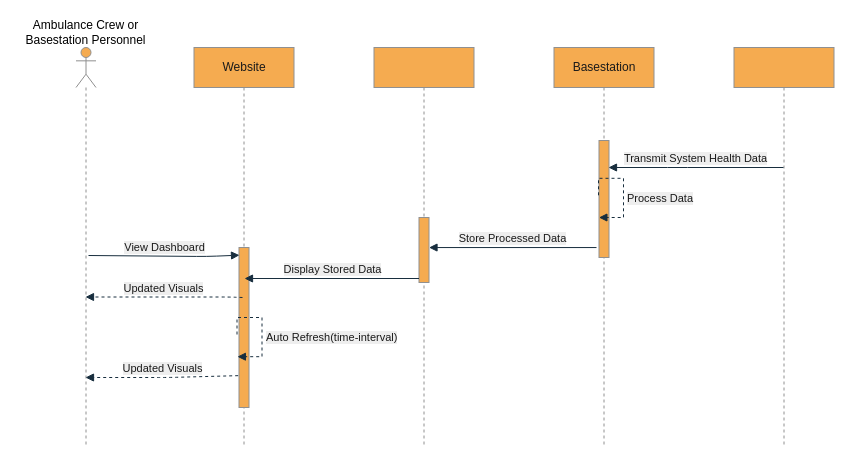
Some shapes in this 852 by 465 pixel diagram are drawn without their labels. Here are the shapes that lost their labels. From the top down, the box of each, then its label:
(373, 46, 474, 448): System Health Database
(733, 46, 834, 448): Microcontroller in Ambulance
